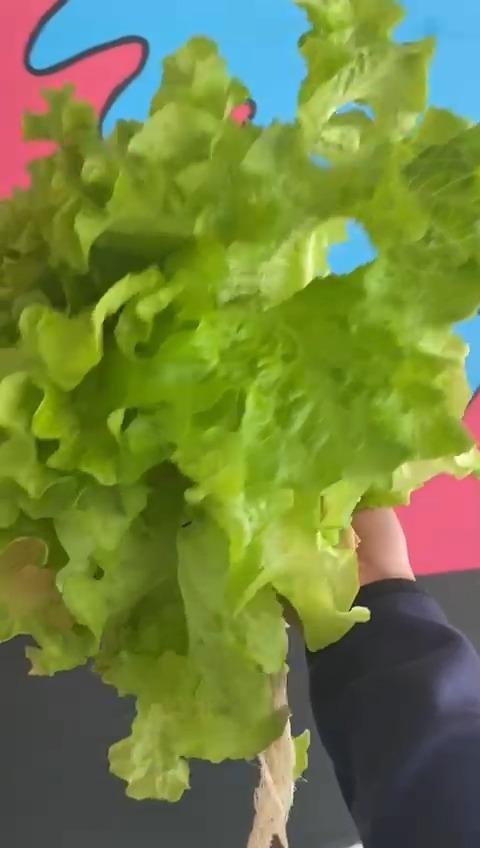Healthy Lettuce: (0, 0, 480, 805)
